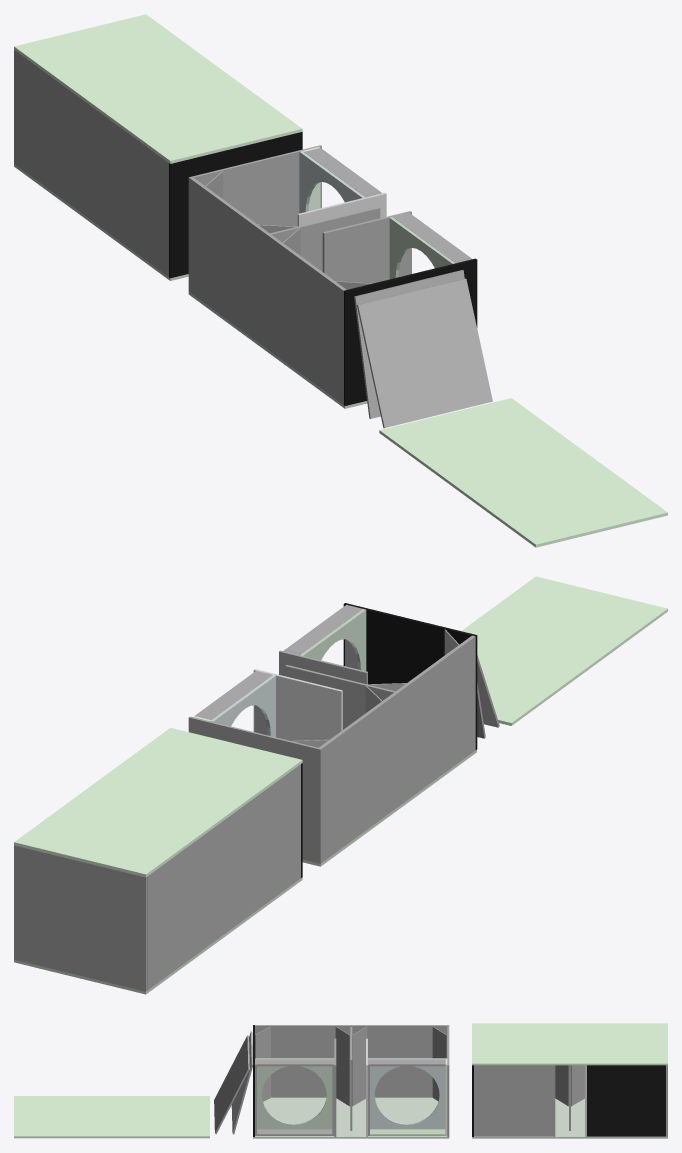
The model's file is alto_falante.glb.
3 renders of one model, top to bottom at view 1: azimuth 30°, elevation 25°; view 2: azimuth 150°, elevation 25°; view 3: azimuth 270°, elevation 25°, orthographic. The views are drawn at different scales.
Parts seen in each view (by area): view 1: Material_004-material (×2), Cube.003, Cube.027, Cube.048, Material_005-material (×2), Cube.002, Cube.007, Cube.022, Cube.006, Material_007-material, Material_008-material, Material_009-material (+2 smaller); view 2: Material_004-material (×2), Cube.003, Cube.027, Cube.026, Material_005-material, Cube.002, Material_009-material, Cube.006, Material_006-material (×2), Material_007-material, Material_008-material, Cube.007 (+3 smaller); view 3: Material_004-material (×2), Cube.003, Material_006-material (×2), Cube.046, Material_001-material, Material_007-material, Material_008-material, Cube.048, Cube.011, Cube.012, Cube.009, Cube.021 (+15 smaller).
Boxes of the visible parts, box(x1,y1,x2,y2) form: Material_004-material (×2): box(14, 14, 667, 547); Cube.003: box(190, 177, 346, 404); Cube.027: box(15, 50, 168, 276); Cube.048: box(357, 278, 492, 428); Material_005-material (×2): box(169, 132, 477, 405); Cube.002: box(188, 145, 321, 291); Cube.007: box(322, 211, 411, 283); Cube.022: box(354, 270, 464, 418); Cube.006: box(270, 207, 380, 271); Material_007-material: box(389, 217, 455, 279); Material_008-material: box(299, 151, 364, 213); Material_009-material: box(297, 192, 386, 226); Material_004-material (×2): box(14, 576, 667, 877); Cube.003: box(319, 635, 475, 862); Cube.027: box(147, 764, 300, 990); Cube.026: box(14, 845, 147, 991); Material_005-material: box(343, 603, 477, 749); Cube.002: box(188, 716, 321, 863); Material_009-material: box(253, 669, 342, 740); Cube.006: box(285, 665, 395, 729); Material_006-material (×2): box(14, 750, 476, 994); Material_007-material: box(300, 609, 366, 671); Material_008-material: box(210, 675, 275, 737); Cube.007: box(279, 650, 367, 684); Material_004-material (×2): box(14, 1023, 667, 1138); Cube.003: box(255, 1025, 447, 1097); Material_006-material (×2): box(253, 1097, 667, 1138); Cube.046: box(474, 1065, 552, 1136); Material_001-material: box(587, 1065, 665, 1136); Material_007-material: box(255, 1058, 334, 1129); Material_008-material: box(368, 1058, 447, 1129); Cube.048: box(214, 1035, 249, 1134); Cube.011: box(335, 1026, 350, 1106); Cube.012: box(352, 1026, 367, 1106); Cube.009: box(255, 1026, 270, 1101); Cube.021: box(370, 1059, 445, 1066).
Size of the model in its own units: 2.22 by 1.94 by 15.19.
